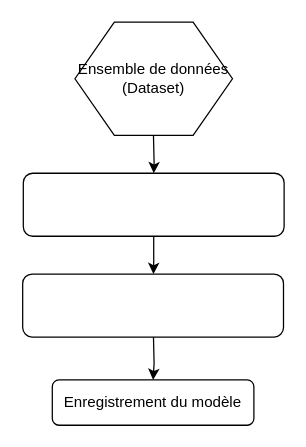
The diagram is 306 pixels wide and 447 high, and some of its shapes have lost their labels. Here are the shapes that lost their labels. From the top down, the centre of each, then its label:
At point (153, 204): "Augmentation de l'ensemble de données".
At point (152, 305): "Apprentissage profond (Deep Learning)".
